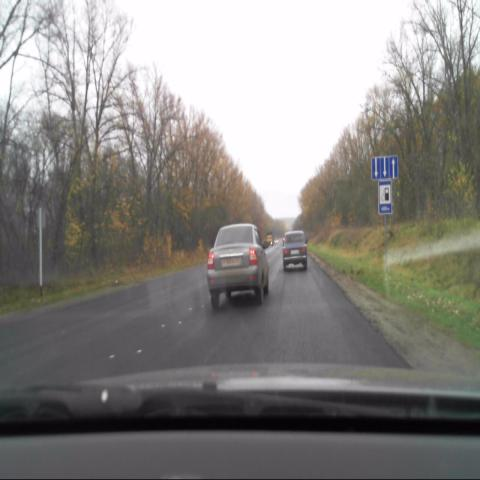5_15_7: (372, 155, 398, 181)
